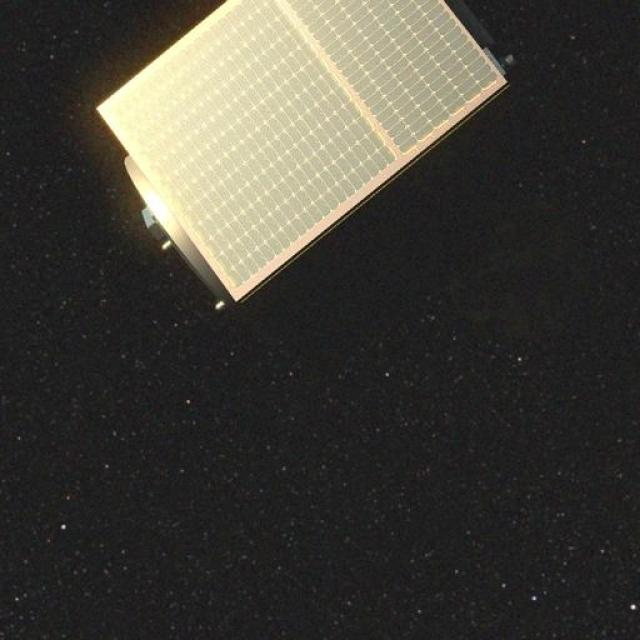cheops: (105, 0, 520, 301)
